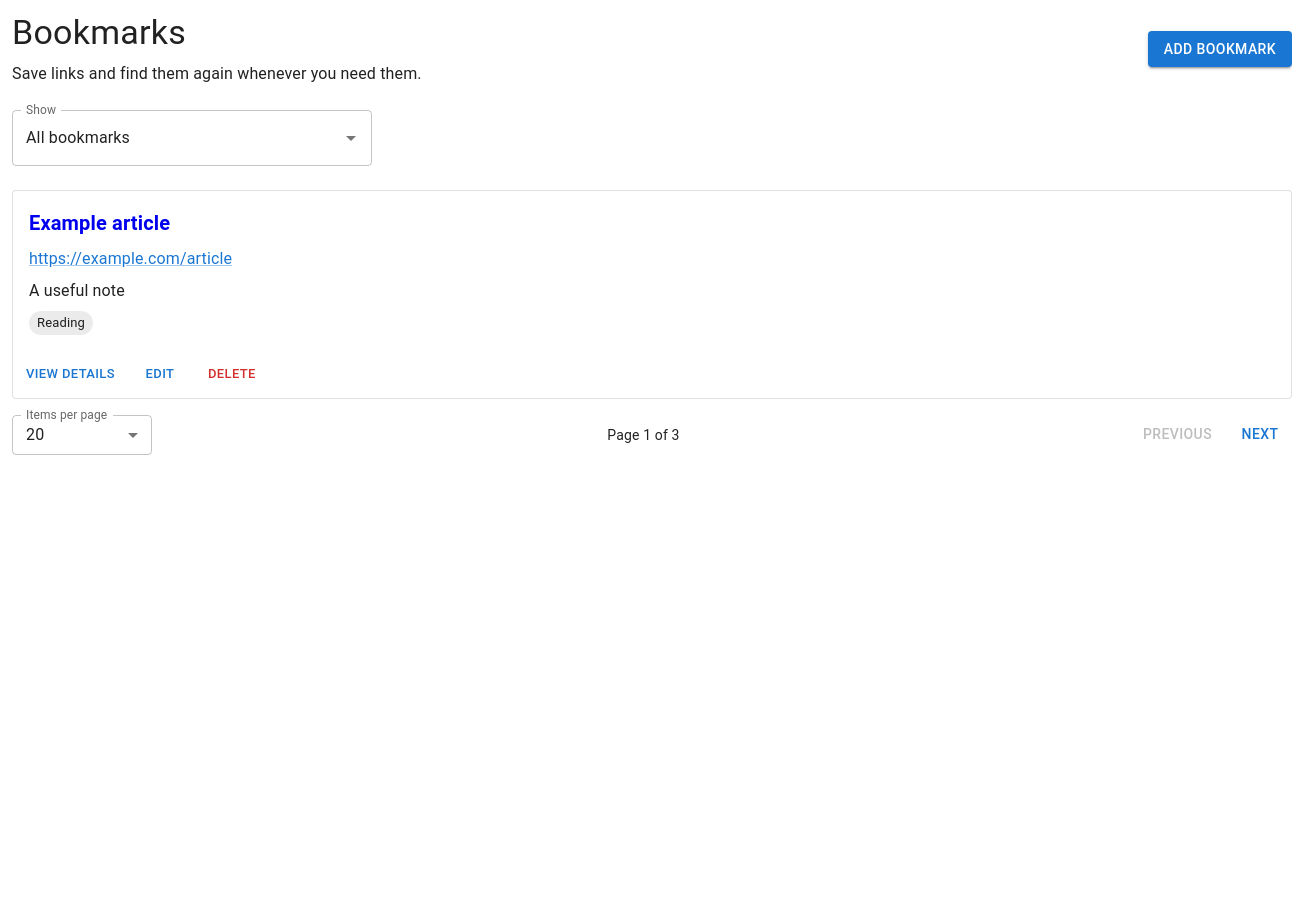
Scenario: BookmarksPage › resets to page one and requests the selected bookmark page size
Check: the link "Example article" is shown, box [29,211,170,235]
Click the button "Next". click: (1260, 435)
box: [1228,416,1292,453]
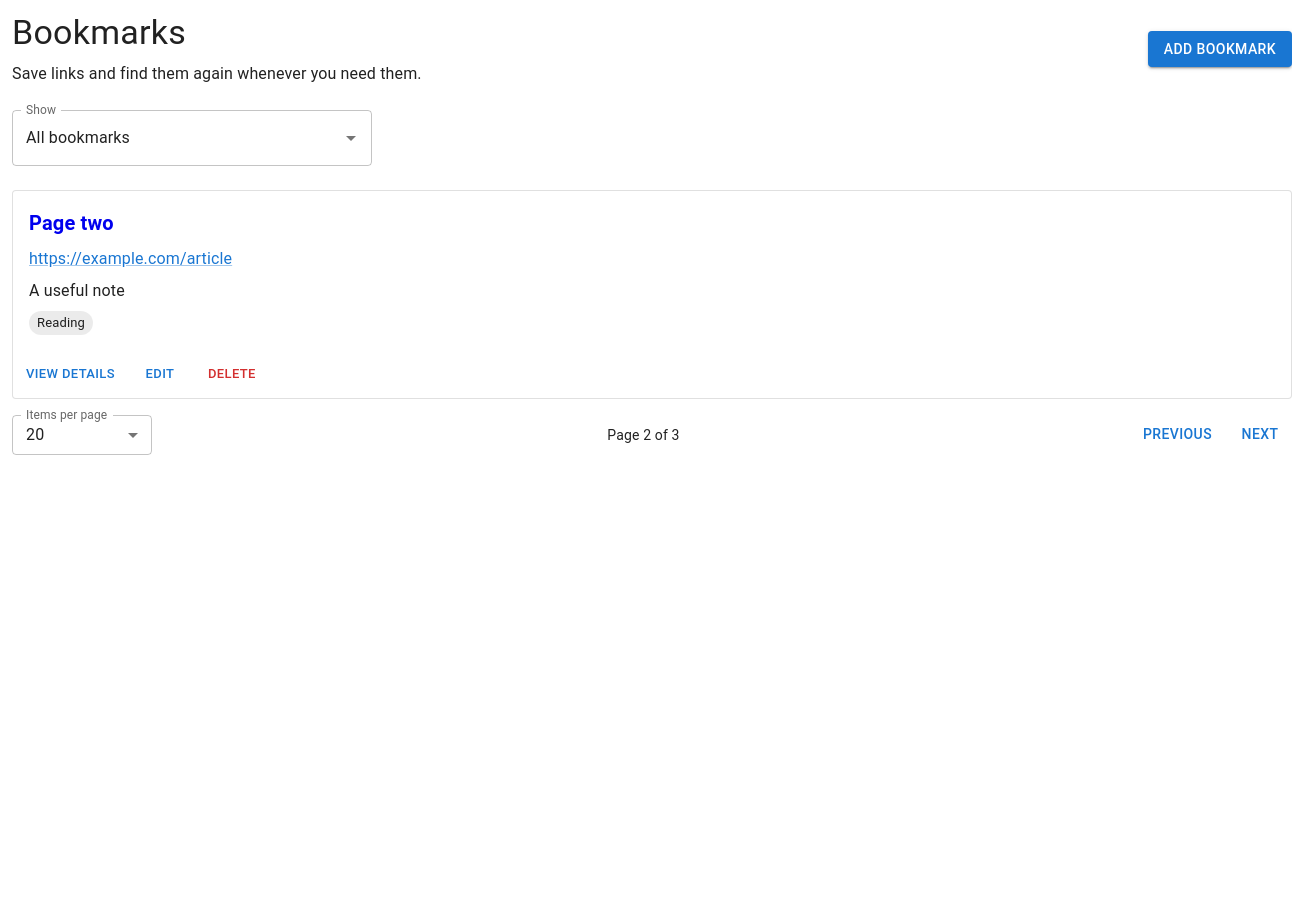
Check: the link "Page two" is shown, box [29,211,114,235]
Press the mouse on the dropdown named "Items per page" at (35, 435), box [26,425,44,444]
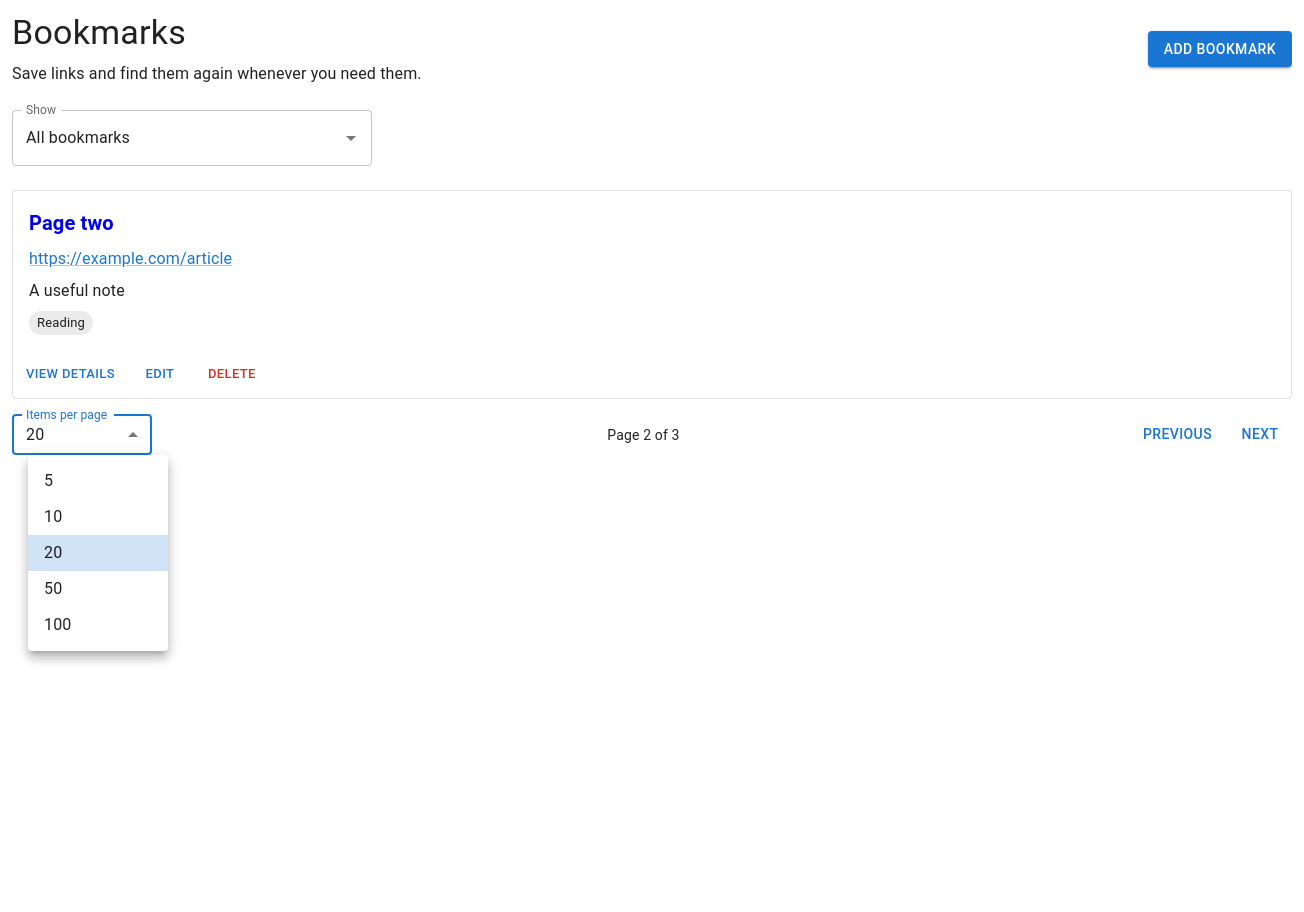
Click the option "50". click: (53, 588)
box: [44,579,62,598]
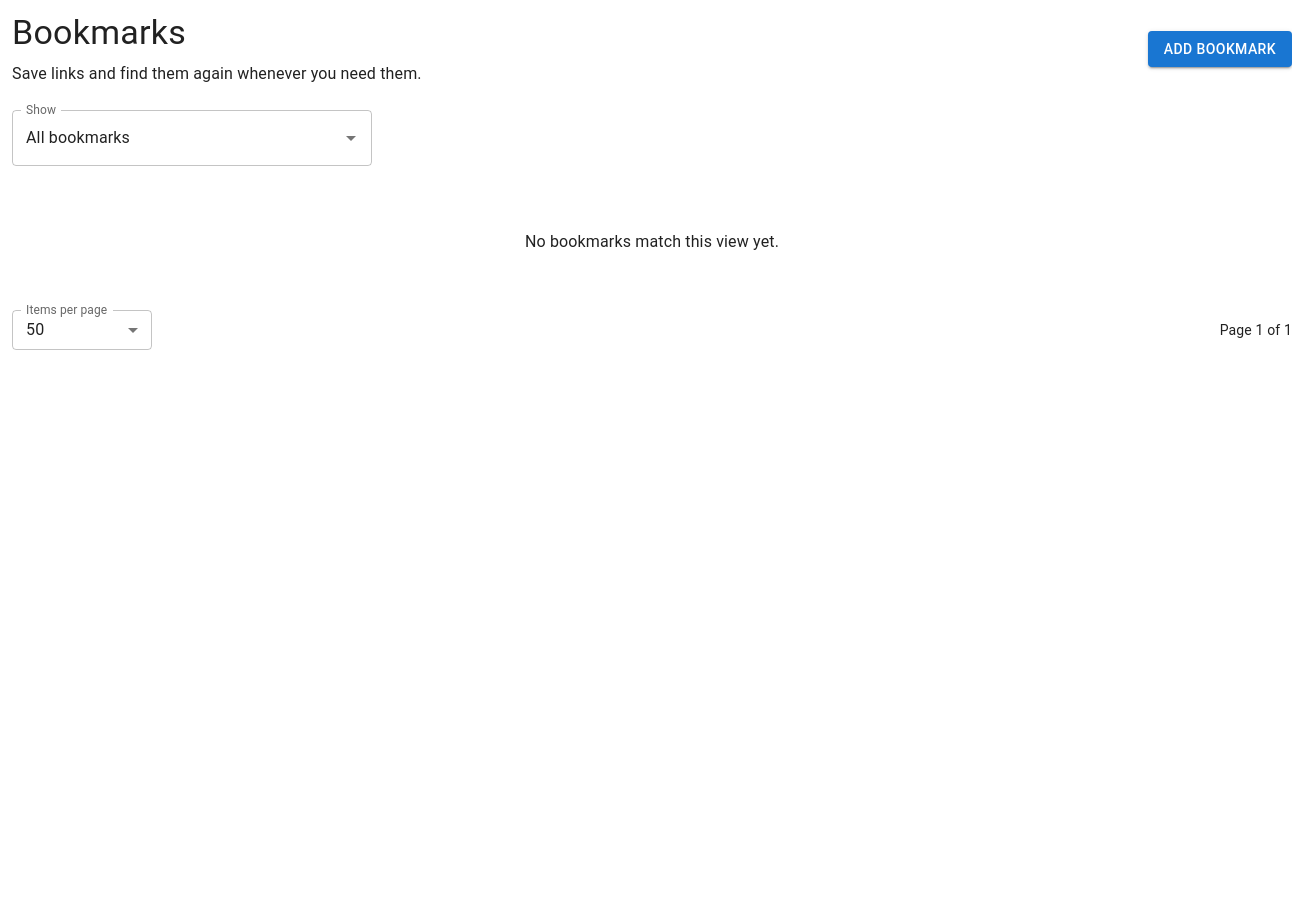
Check: the text "No bookmarks match this view yet." is shown, box [525,232,779,251]
